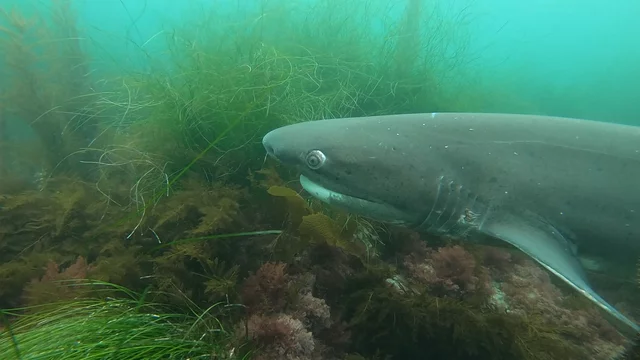Sevengill Shark: (244, 71, 640, 335)
